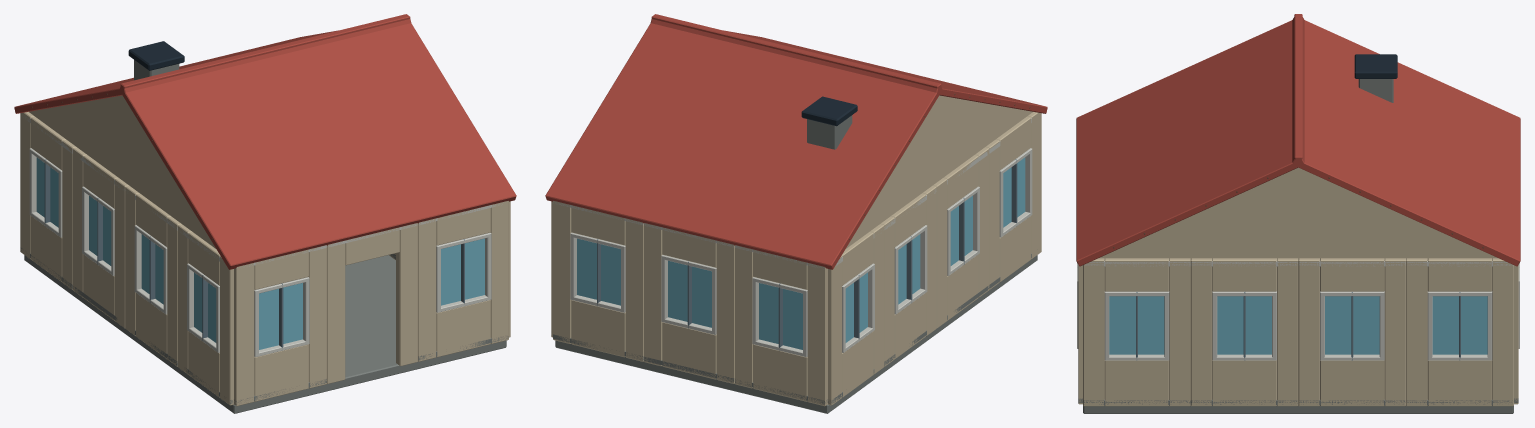
Rendered from architecture-house.lod0.glb.
The picture shows the model from 3 angles, left to right: view 1: azimuth 30°, elevation 25°; view 2: azimuth 150°, elevation 25°; view 3: azimuth 270°, elevation 25°; orthographic projection. The views are drawn at different scales.
Visible parts, largest first — view 1: architecture-house__body; view 2: architecture-house__body; view 3: architecture-house__body.
Part boxes in pixels (bbox=[...]): architecture-house__body: bbox=[14, 14, 516, 413]; architecture-house__body: bbox=[545, 14, 1047, 413]; architecture-house__body: bbox=[1076, 14, 1520, 413].
Bounding box in the file's own units: 6.31 × 5.35 × 8.25.
